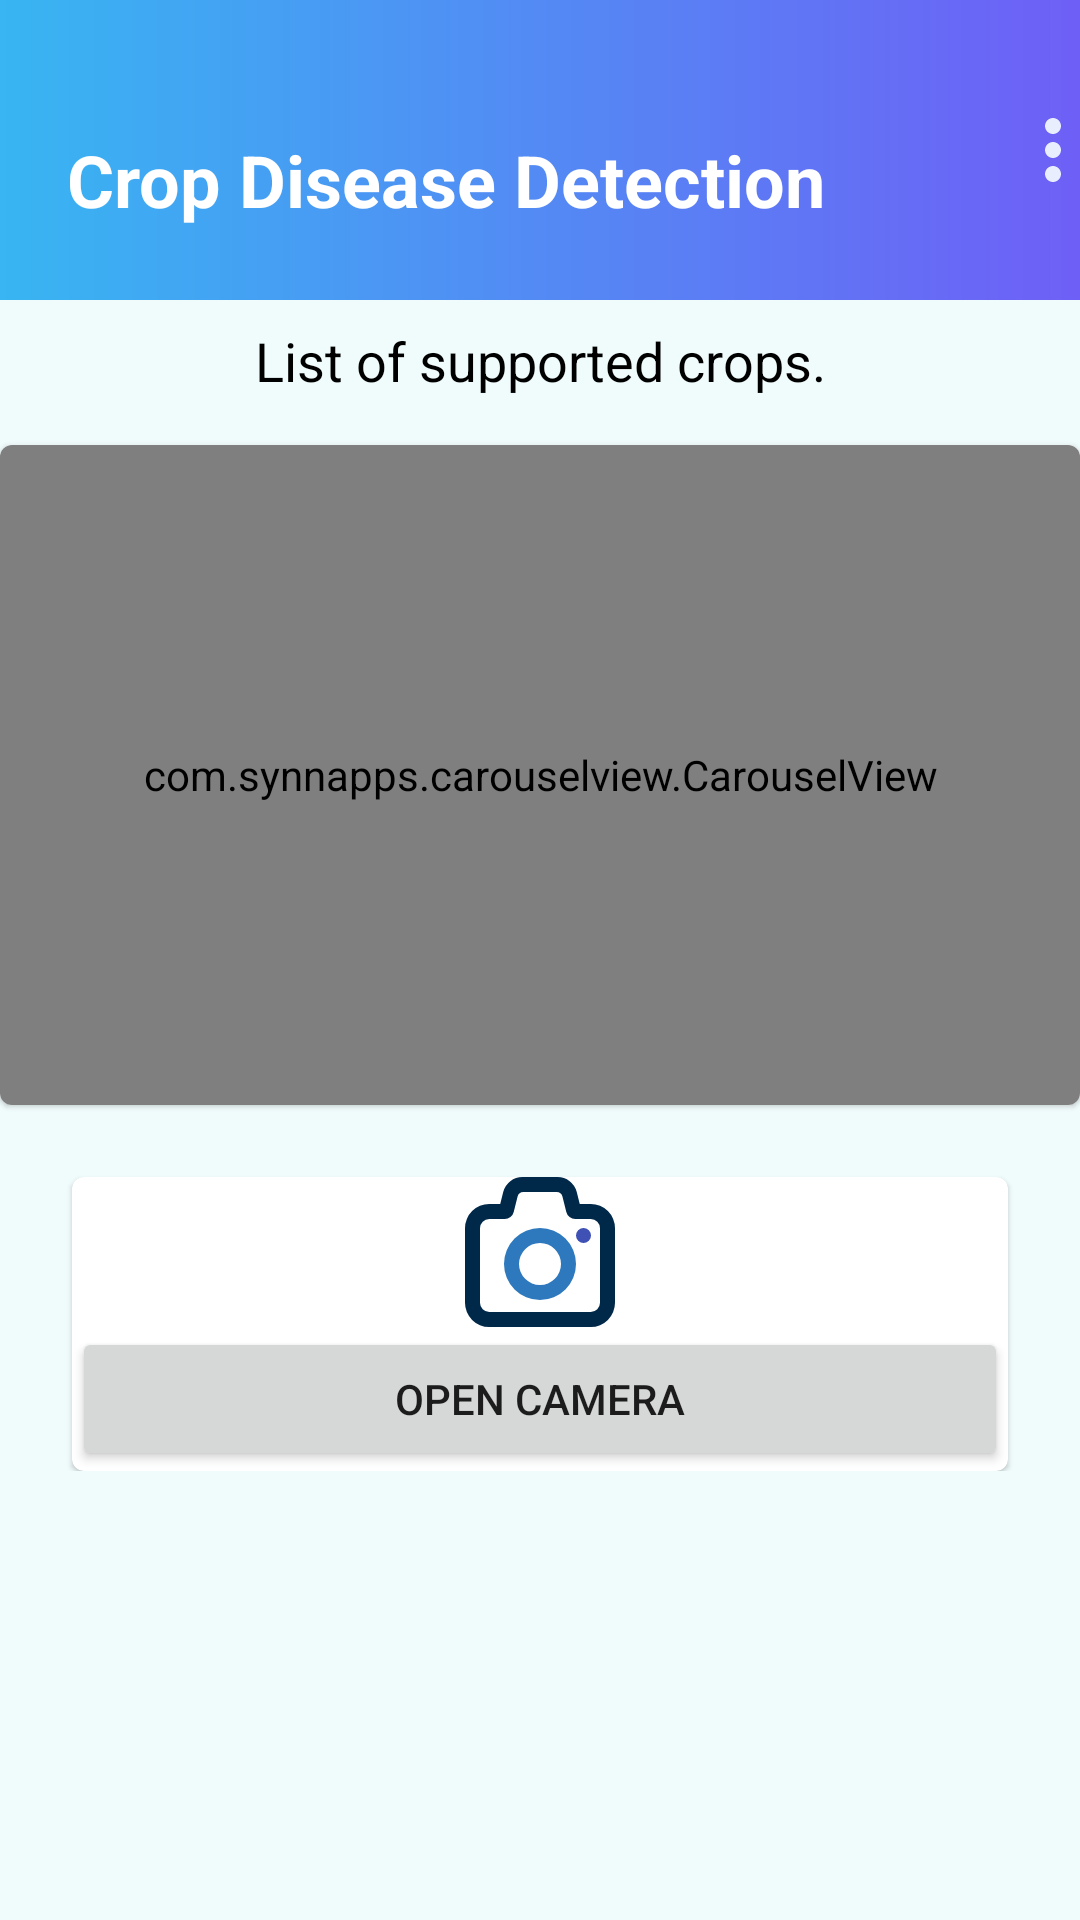

Screen size 1080w x 1920h. Icon name, then its box in pixels as (x1, y1, x2, y2):
more vert: (1045, 118, 1061, 182)
